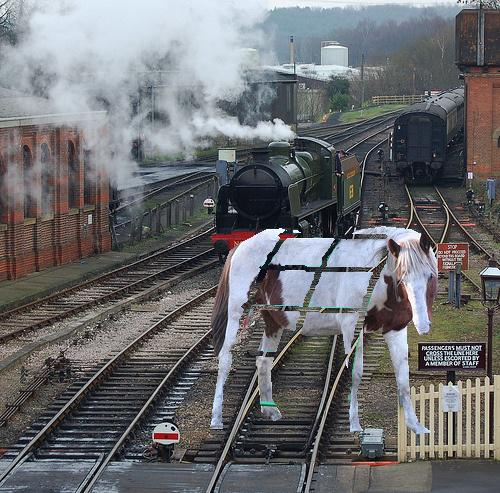tampered: (211, 227, 438, 434)
